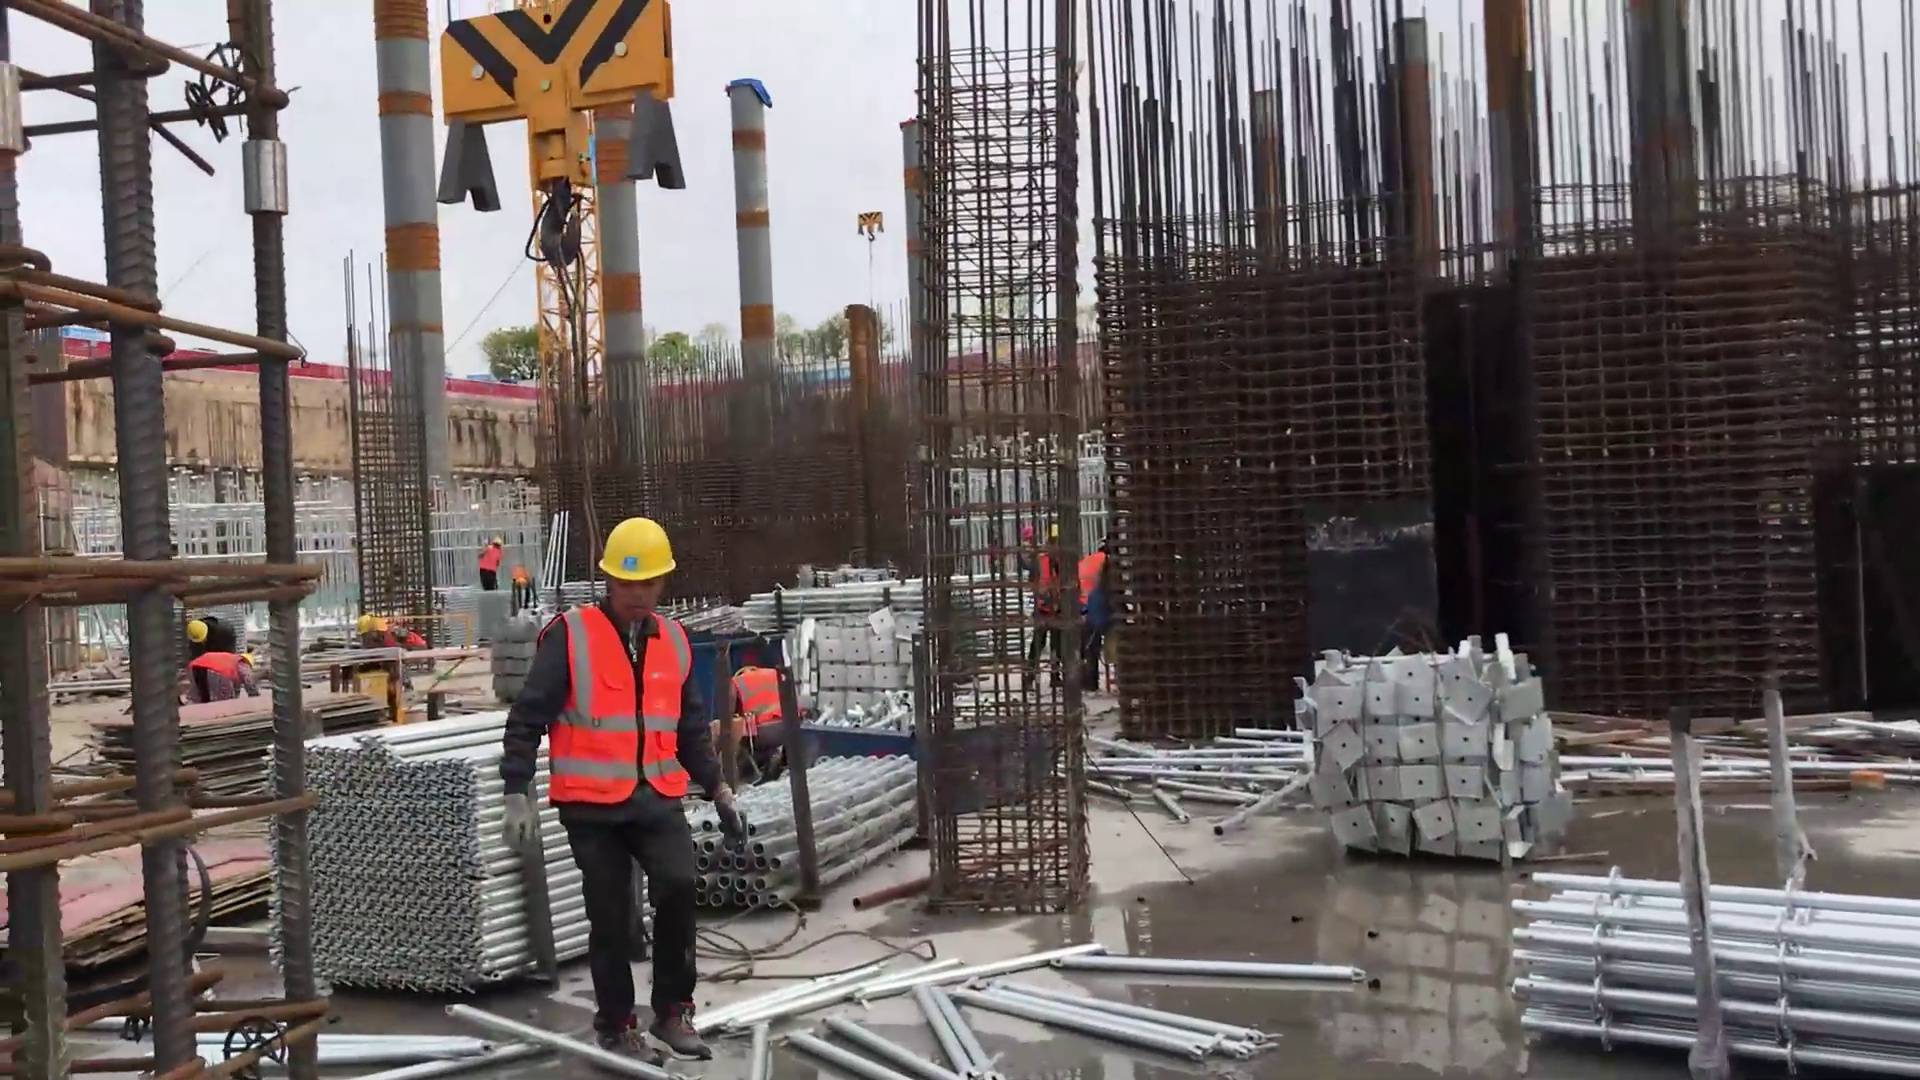helmet: (591, 510, 682, 590), (354, 615, 390, 640), (184, 617, 211, 647), (490, 531, 510, 554)
person: (493, 511, 738, 1066), (728, 659, 805, 777), (1068, 540, 1111, 693), (185, 649, 257, 701), (366, 619, 428, 679), (182, 610, 239, 669), (473, 534, 507, 595), (507, 569, 535, 608)
vest: (533, 604, 704, 820), (734, 671, 791, 728), (1074, 548, 1112, 621), (189, 650, 245, 682), (379, 627, 429, 655), (479, 545, 502, 576), (509, 570, 533, 587)
